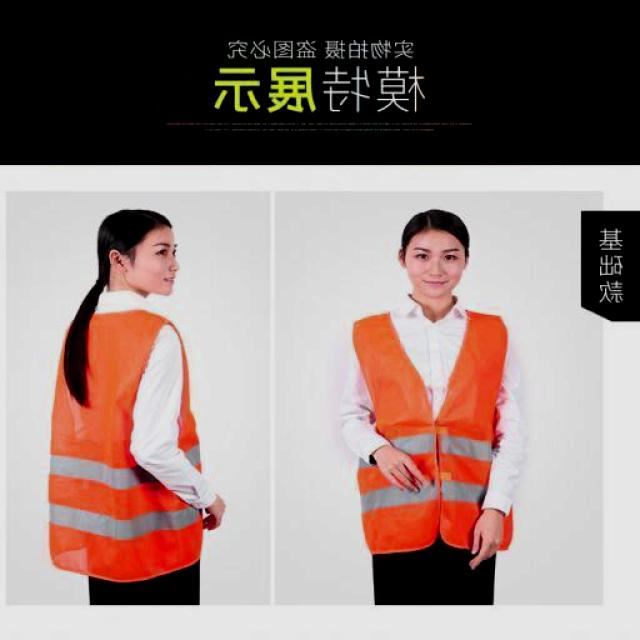face_nomask: (409, 244, 467, 296), (145, 240, 185, 290)
hand_noglove: (377, 442, 432, 498), (464, 507, 510, 568), (197, 488, 229, 538)
head_nohelmet: (401, 203, 473, 247), (98, 206, 177, 244)
person: (39, 204, 231, 608), (334, 202, 524, 606)
vest: (47, 318, 215, 578), (356, 307, 510, 553)
